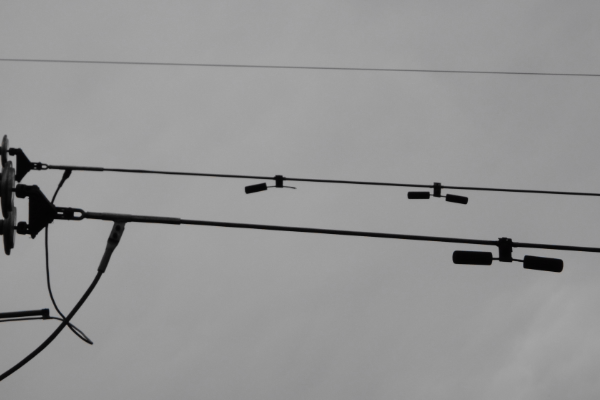damper: (449, 233, 565, 274), (404, 181, 470, 205)
damper_defect: (241, 173, 299, 195)
